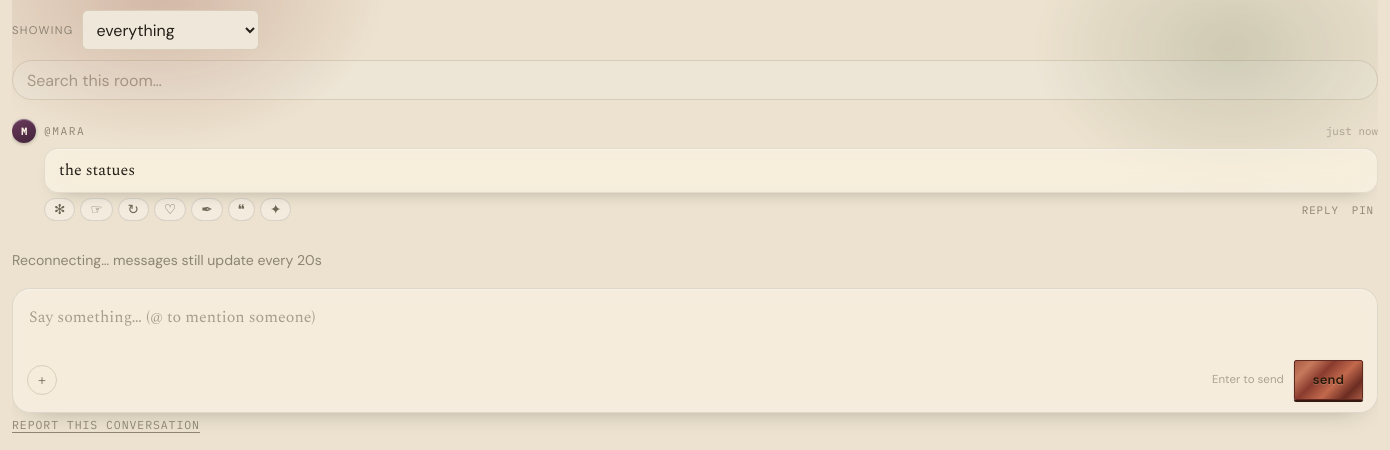
Scenario: CollectionChat — one room per collection [#6] › reacts optimistically and reconciles with the server's counts
Click the button named "resonated": (60, 210) [44, 198, 75, 221]
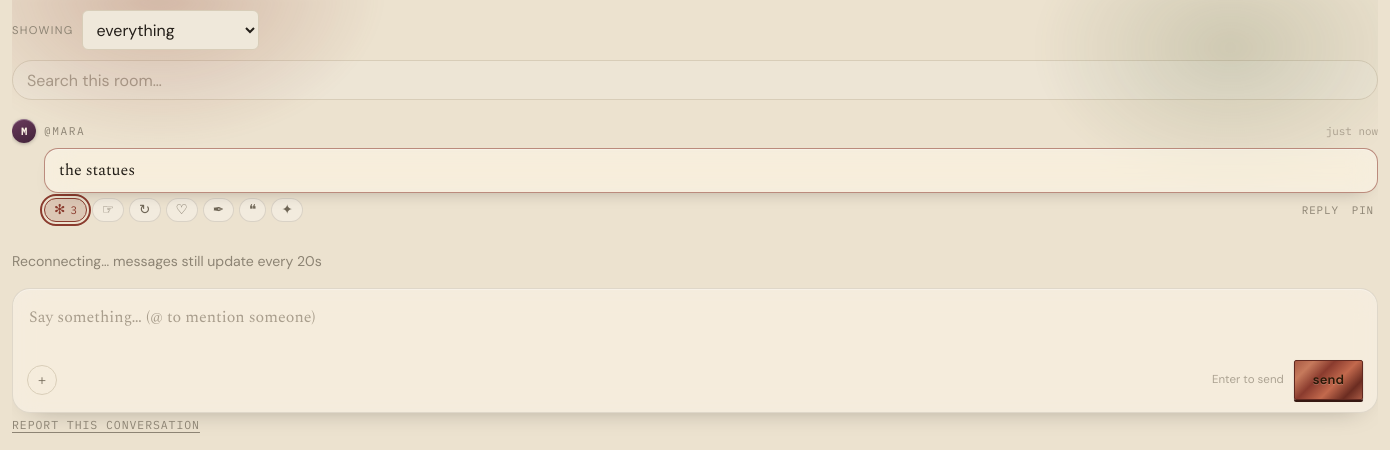
Now the text "3" is shown, box [70, 203, 77, 217]
